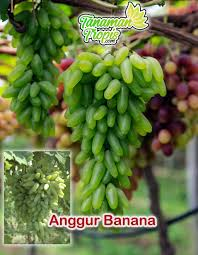anggur: (56, 40, 146, 238), (1, 3, 79, 147)
